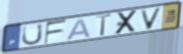A: (65, 17, 92, 41)
F: (44, 19, 68, 45)
T: (94, 13, 114, 38)
U: (21, 22, 45, 47)
V: (139, 6, 164, 31)
X: (113, 9, 140, 36)
